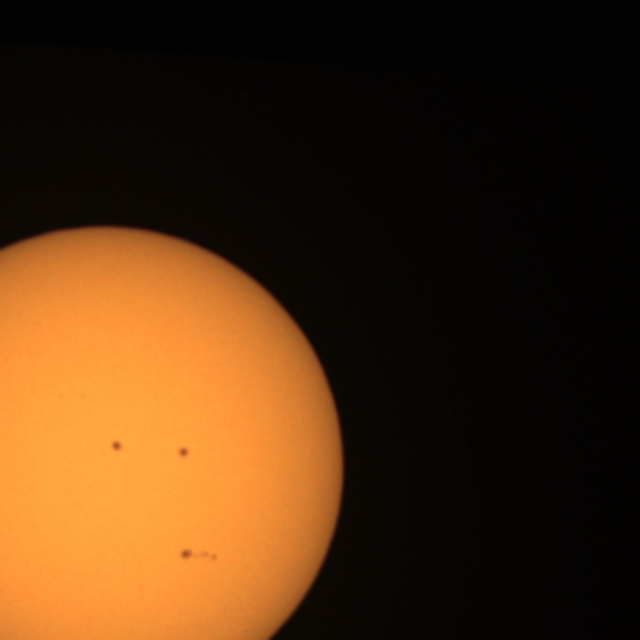sunspot: (176, 545, 221, 566), (175, 444, 192, 462), (109, 438, 126, 455)
